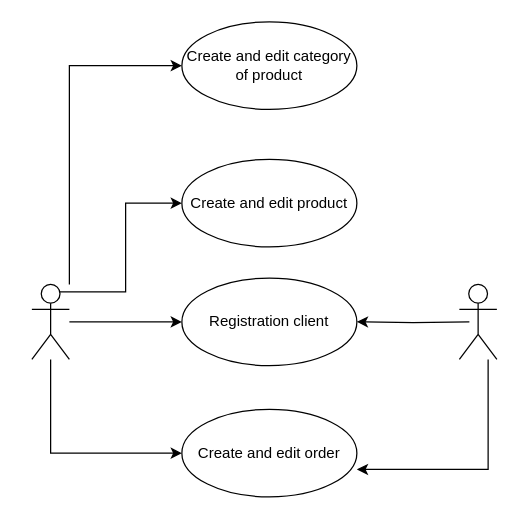
Some shapes in this 520 by 519 pixel diagram are drawn without their labels. Here are the shapes that lost their labels. From the top down, the centre of each, then its label:
(x=50, y=321): Manager
(x=477, y=321): Cli ent
